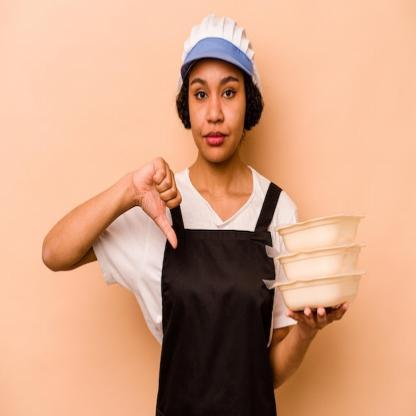thumb_down: (127, 153, 183, 251)
